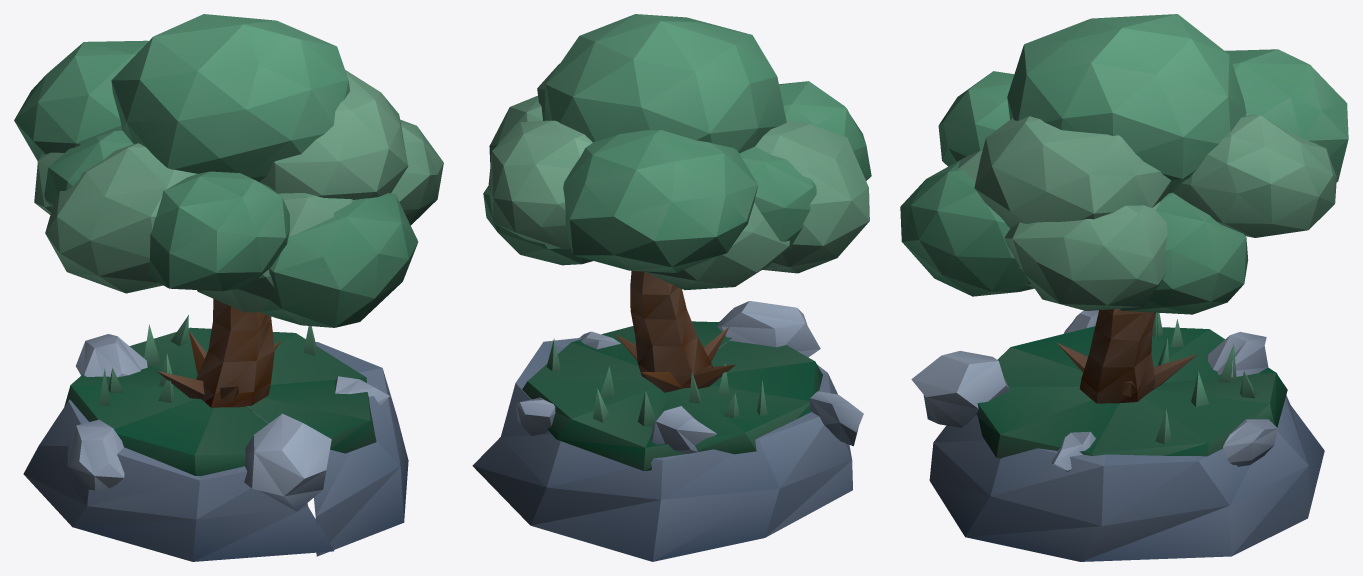
Rendered from pohon_oak_emerald_137458.glb.
The picture shows the model from 3 angles, left to right: view 1: azimuth 30°, elevation 25°; view 2: azimuth 150°, elevation 25°; view 3: azimuth 270°, elevation 25°; orthographic projection. The views are drawn at different scales.
Parts seen in each view (by area): view 1: Dedaunan_Kanopi, Pulau_Batu_Tepi_Sungai, Batang_Dan_Akar; view 2: Dedaunan_Kanopi, Pulau_Batu_Tepi_Sungai, Batang_Dan_Akar; view 3: Dedaunan_Kanopi, Pulau_Batu_Tepi_Sungai, Batang_Dan_Akar.
Part boxes in pixels (x1,y1,x2,y2): Dedaunan_Kanopi: (14, 14, 443, 327); Pulau_Batu_Tepi_Sungai: (23, 315, 408, 561); Batang_Dan_Akar: (156, 299, 282, 411); Dedaunan_Kanopi: (483, 14, 871, 290); Pulau_Batu_Tepi_Sungai: (472, 301, 863, 561); Batang_Dan_Akar: (615, 271, 735, 392); Dedaunan_Kanopi: (900, 14, 1348, 314); Pulau_Batu_Tepi_Sungai: (911, 310, 1324, 561); Batang_Dan_Akar: (1056, 308, 1197, 403).
Size of the model in its own units: 5.81 by 6.85 by 5.93.
